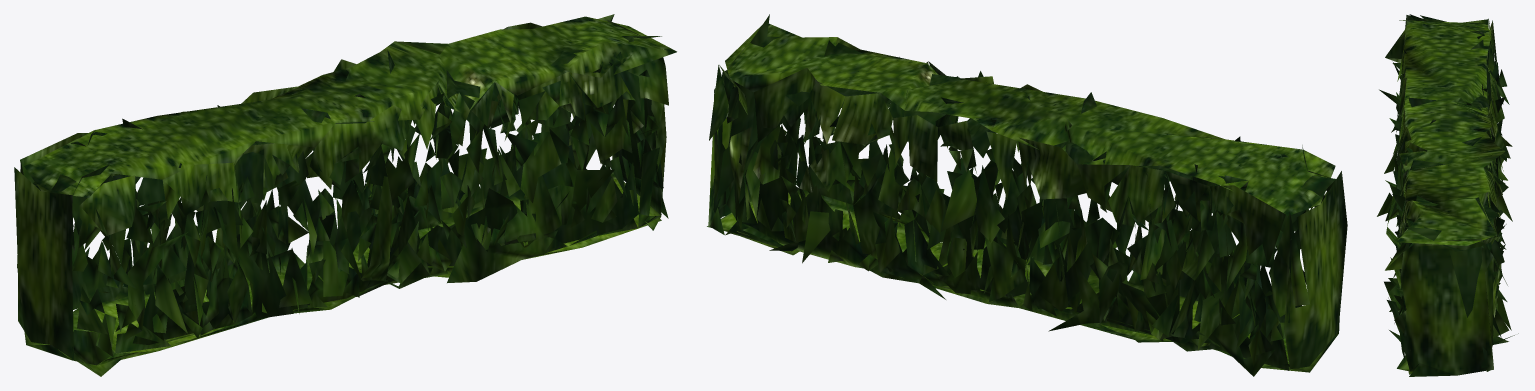
Rendered from hedge-2.lod1.glb.
3 views of the same model, side by side, from view 1: azimuth 30°, elevation 25°; view 2: azimuth 150°, elevation 25°; view 3: azimuth 270°, elevation 25° (orthographic). The views are drawn at different scales.
Parts seen in each view (by area): view 1: terrain-hedge-2; view 2: terrain-hedge-2; view 3: terrain-hedge-2.
Boxes of the visible parts, box(x1,y1,x2,y2) form: terrain-hedge-2: box(14, 14, 676, 376); terrain-hedge-2: box(707, 14, 1347, 376); terrain-hedge-2: box(1377, 14, 1518, 376).
Bounding box in the file's own units: 0.9594 × 0.3093 × 0.2498.
1 material, 1 textured.
